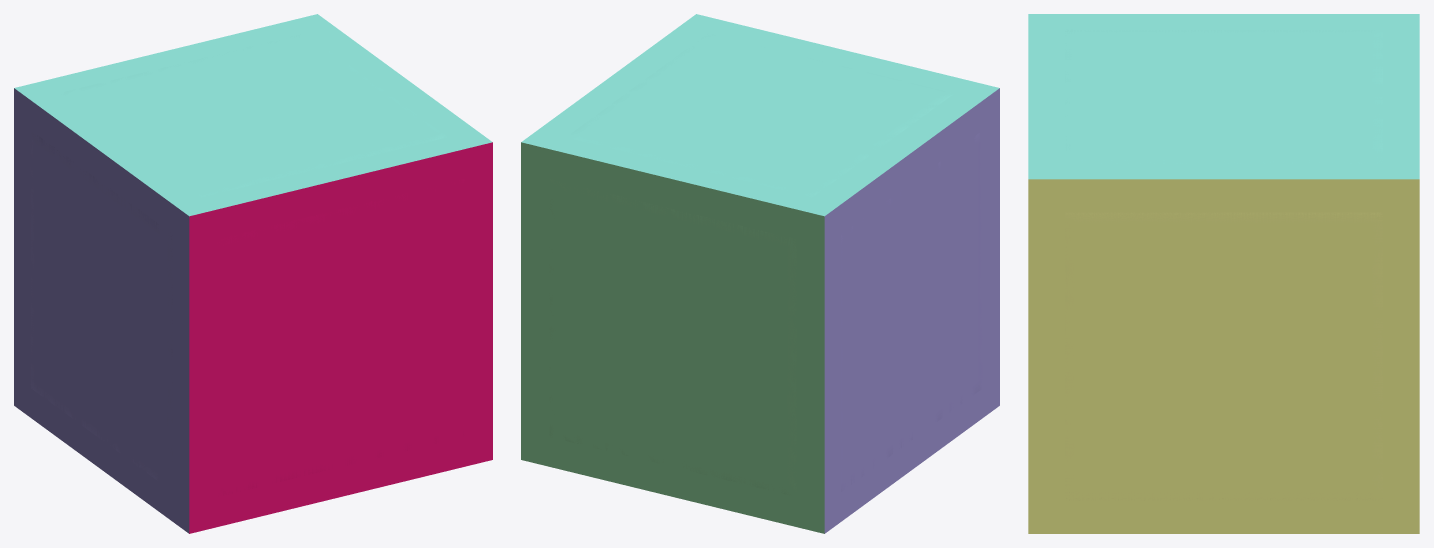
The model's file is SM_Dice_Nrm.FBX.
3 views of the same model, side by side, from view 1: azimuth 30°, elevation 25°; view 2: azimuth 150°, elevation 25°; view 3: azimuth 270°, elevation 25° (orthographic). The views are drawn at different scales.
Parts seen in each view (by area): view 1: SM_Dice_low, SM_Dice_high; view 2: SM_Dice_low, SM_Dice_high; view 3: SM_Dice_low, SM_Dice_high.
Boxes of the visible parts, box(x1,y1,x2,y2) form: SM_Dice_low: box(14, 14, 492, 533); SM_Dice_high: box(30, 34, 464, 496); SM_Dice_low: box(521, 14, 999, 533); SM_Dice_high: box(549, 33, 982, 496); SM_Dice_low: box(1028, 14, 1419, 533); SM_Dice_high: box(1065, 29, 1382, 500).
Size of the model in its own units: 1 by 1 by 1.
